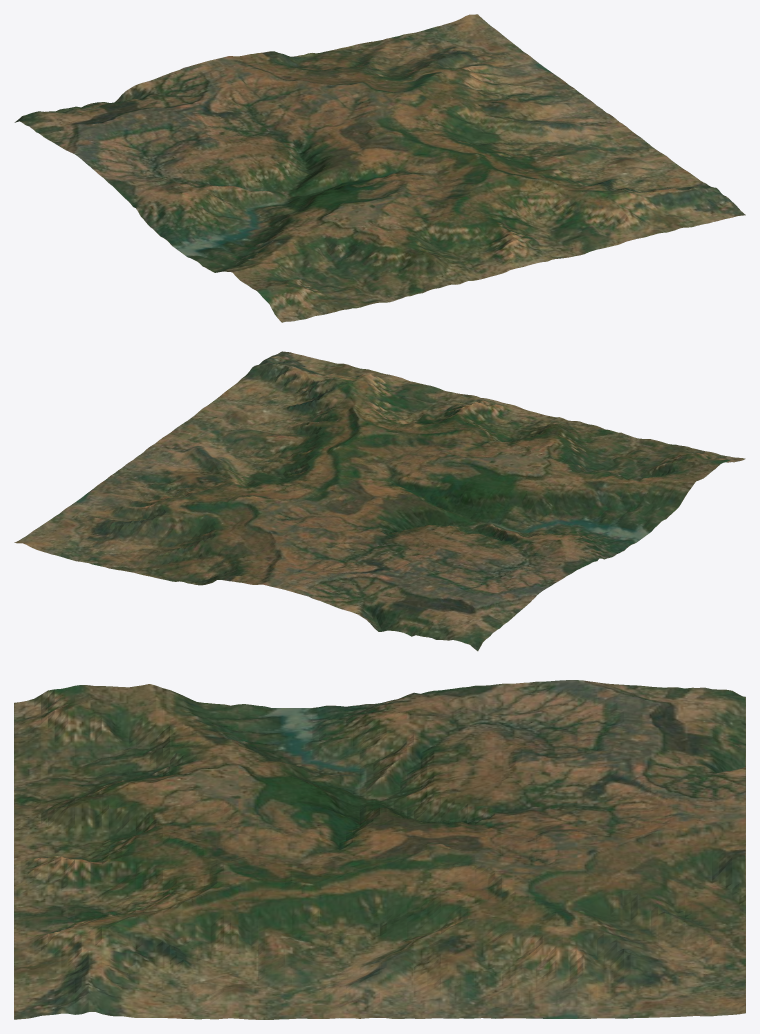
3 views of the same model, one above another, from view 1: azimuth 30°, elevation 25°; view 2: azimuth 150°, elevation 25°; view 3: azimuth 270°, elevation 25° (orthographic). The views are drawn at different scales.
Parts seen in each view (by area): view 1: geometry_0; view 2: geometry_0; view 3: geometry_0.
Part boxes in pixels (x1,y1,x2,y2): geometry_0: (14,14,745,322); geometry_0: (14,351,745,651); geometry_0: (14,680,745,1019).
Bounding box in the file's own units: 10002 × 496 × 10010.
1 material, 1 textured.
